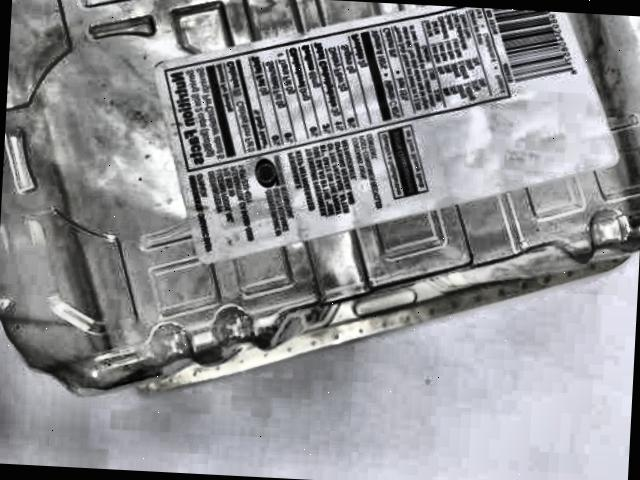Plastic: (0, 0, 640, 427)
